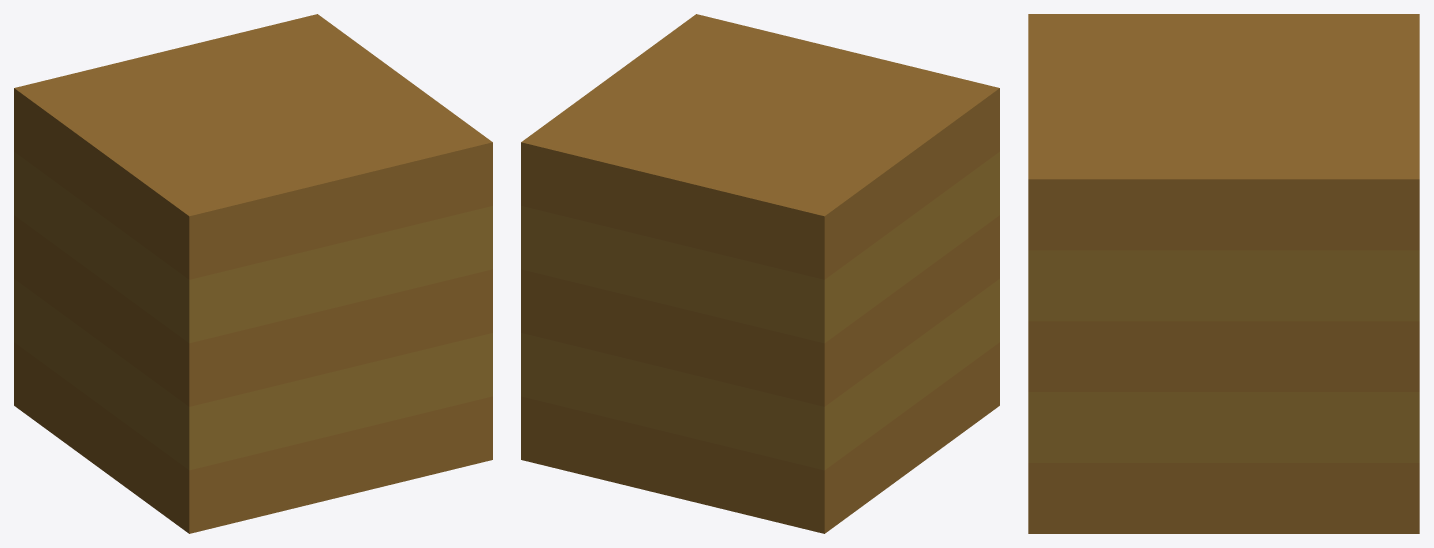
Rendered from Tile.fbx.
3 views of the same model, side by side, from view 1: azimuth 30°, elevation 25°; view 2: azimuth 150°, elevation 25°; view 3: azimuth 270°, elevation 25° (orthographic). The views are drawn at different scales.
Parts seen in each view (by area): view 1: Tile; view 2: Tile; view 3: Tile.
Part boxes in pixels (x1=…): Tile: x1=14, y1=14, x2=492, y2=533; Tile: x1=521, y1=14, x2=999, y2=533; Tile: x1=1028, y1=14, x2=1419, y2=533.
Bounding box in the file's own units: 100 × 100 × 100.
